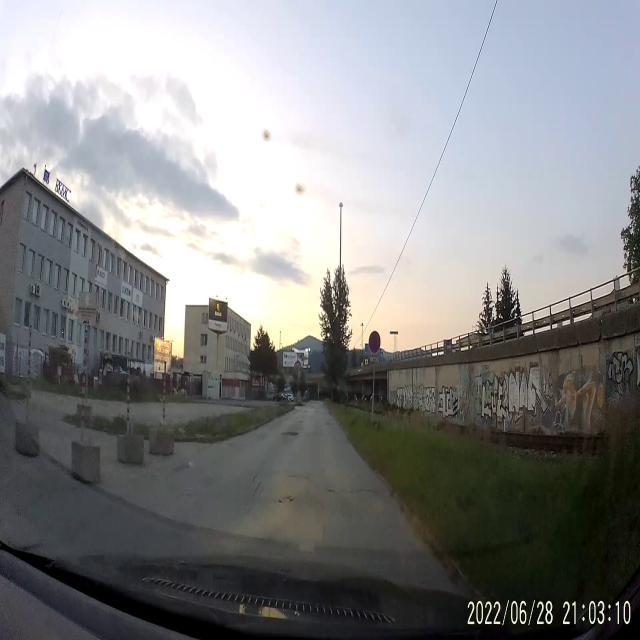Pothole: (276, 494, 296, 506), (282, 430, 300, 439)
